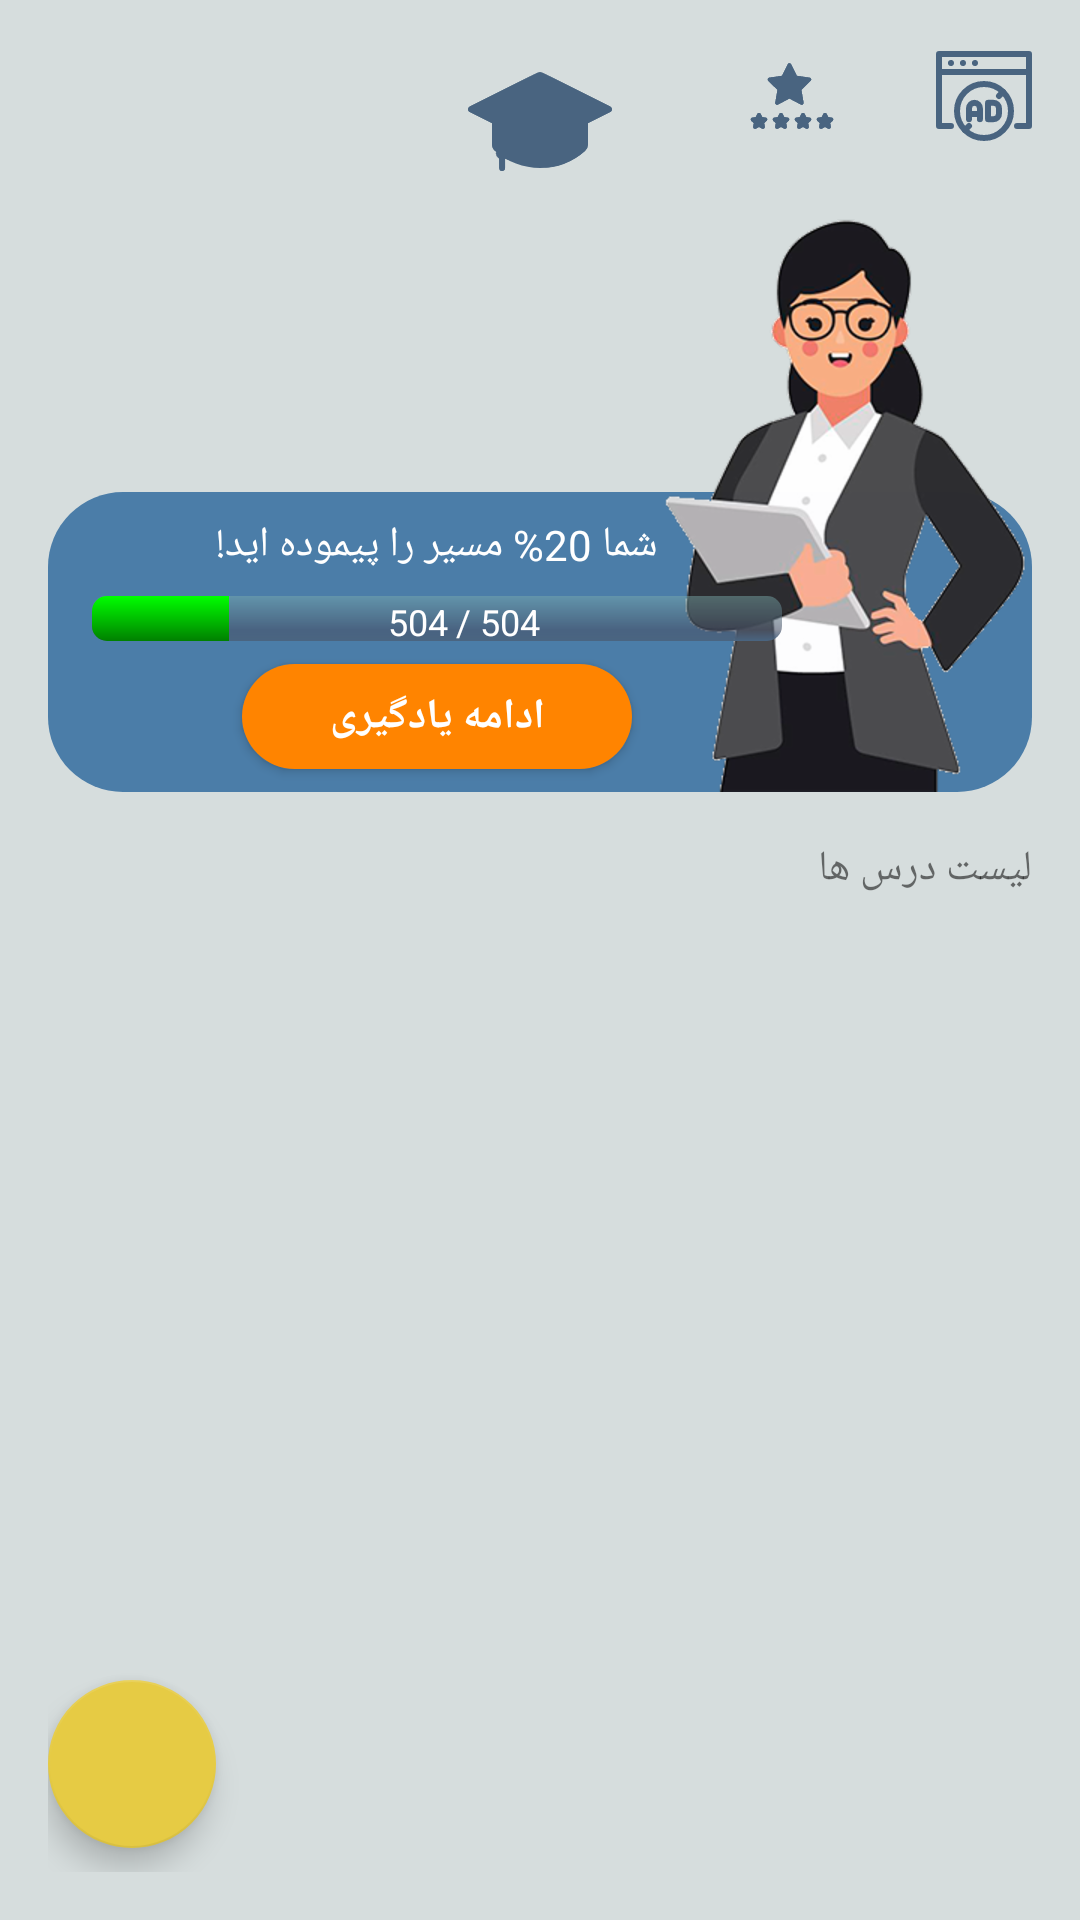

Screen size 1080 × 1920. Icon name, then its center in pixels as [x,y]:
تبلیغات: [984,96]
لوگوی اصلی برنامه: [540,121]
نظردهی: [792,96]
